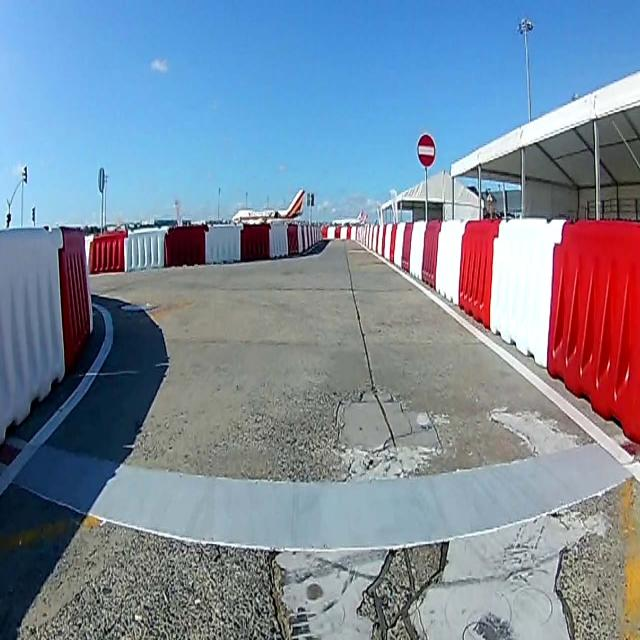girisyok: (416, 132, 436, 168)
